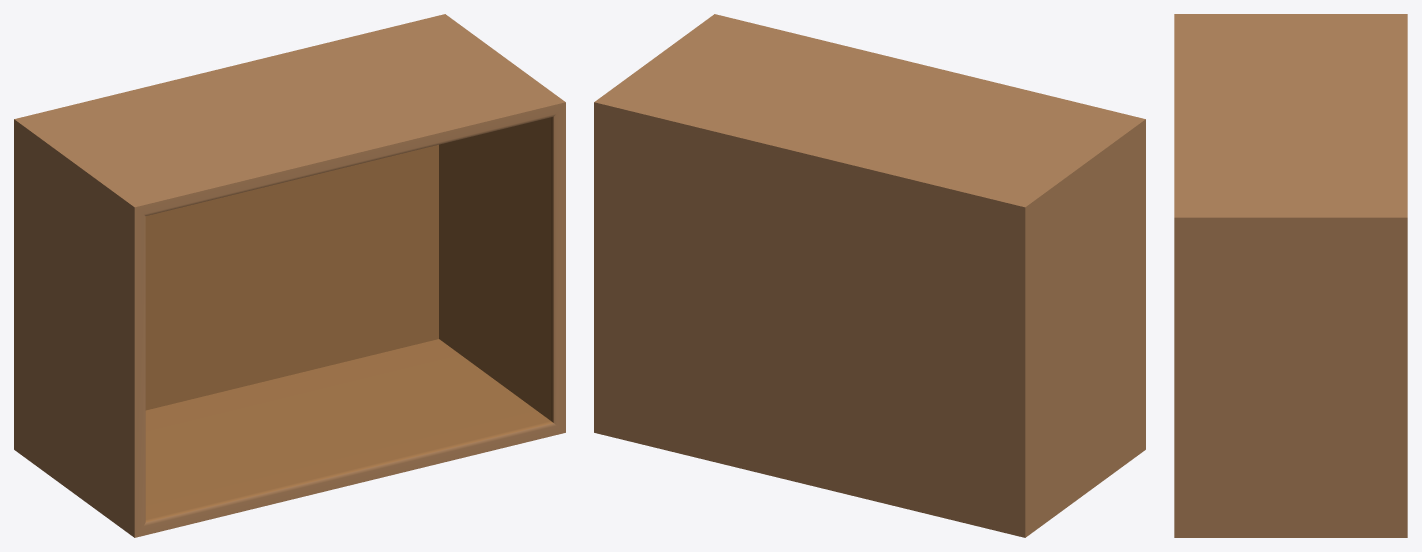
3 views of the same model, side by side, from view 1: azimuth 30°, elevation 25°; view 2: azimuth 150°, elevation 25°; view 3: azimuth 270°, elevation 25° (orthographic). The views are drawn at different scales.
Visible parts, largest first — view 1: box; view 2: box; view 3: box.
Boxes of the visible parts, bbox=[...] form: box: bbox=[14, 14, 565, 537]; box: bbox=[594, 14, 1145, 537]; box: bbox=[1174, 14, 1407, 537].
Size of the model in its own units: 52.47 by 38.45 by 25.41.
